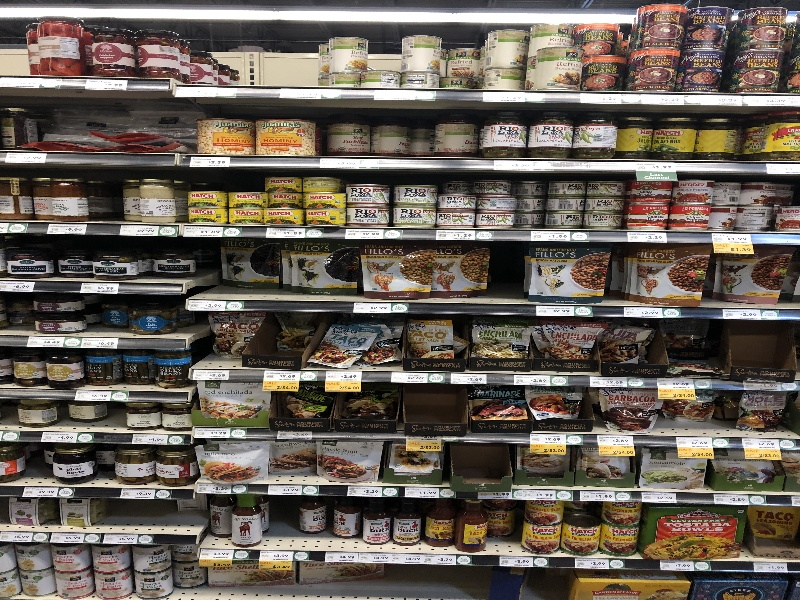void: (300, 558, 524, 600), (223, 27, 321, 85), (450, 439, 519, 497), (727, 324, 800, 377), (402, 381, 468, 427), (1, 12, 40, 75)
